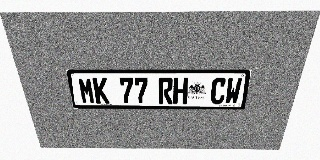7: (118, 78, 134, 104), (133, 78, 149, 104)
C: (210, 78, 227, 104)
H: (173, 78, 188, 104)
K: (92, 78, 110, 104)
M: (77, 77, 96, 104)
R: (158, 78, 173, 104)
W: (224, 78, 243, 104)
